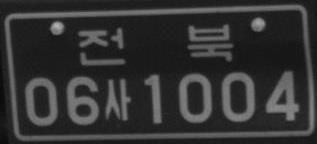0: (177, 71, 213, 124), (220, 70, 256, 123), (24, 75, 59, 127)
1: (139, 72, 169, 124)
4: (265, 69, 300, 121)
6: (64, 75, 100, 127)
사: (102, 77, 131, 120)
전북_D: (78, 23, 234, 66)
